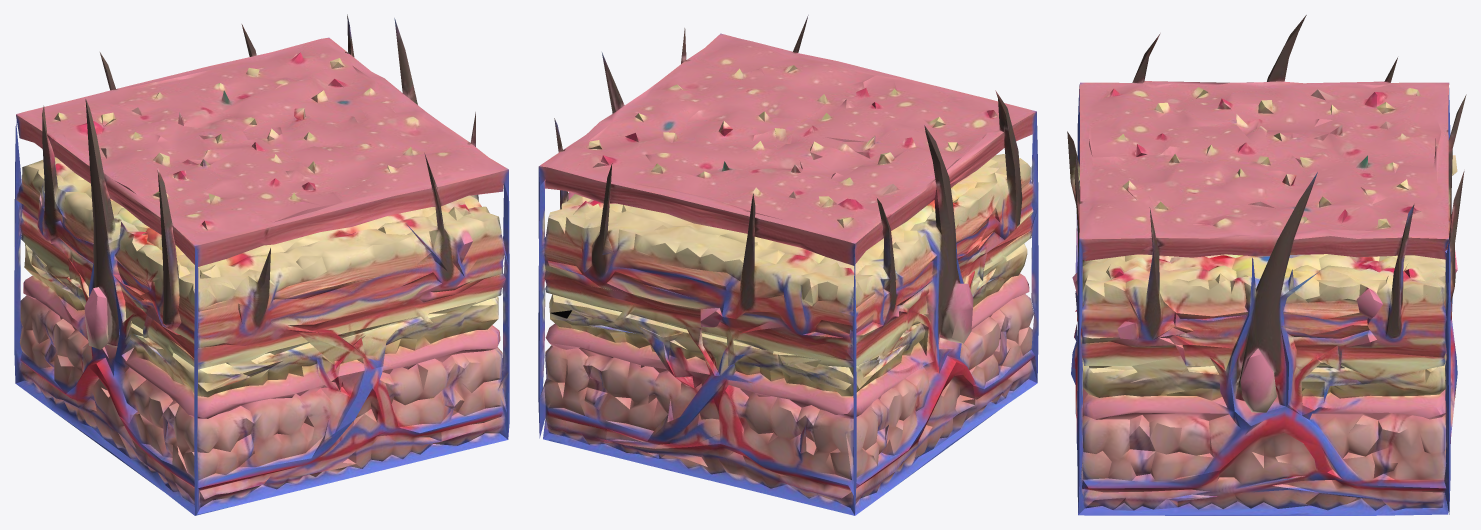
Rendered from Integumentary.glb.
3 renders of one model, left to right at view 1: azimuth 30°, elevation 25°; view 2: azimuth 150°, elevation 25°; view 3: azimuth 270°, elevation 25°, orthographic. The views are drawn at different scales.
Parts seen in each view (by area): view 1: tripo_node_732a0c5c-5092-4ab4-9e08-bc09e084ae1d_0; view 2: tripo_node_732a0c5c-5092-4ab4-9e08-bc09e084ae1d_0; view 3: tripo_node_732a0c5c-5092-4ab4-9e08-bc09e084ae1d_0.
Boxes of the visible parts, x1,y1,x2,y2 form: tripo_node_732a0c5c-5092-4ab4-9e08-bc09e084ae1d_0: (14, 14, 509, 515); tripo_node_732a0c5c-5092-4ab4-9e08-bc09e084ae1d_0: (538, 15, 1038, 515); tripo_node_732a0c5c-5092-4ab4-9e08-bc09e084ae1d_0: (1067, 15, 1466, 515).
Size of the model in its own units: 1 by 0.9063 by 0.9438.
Materials: 1 (1 with a texture image).
